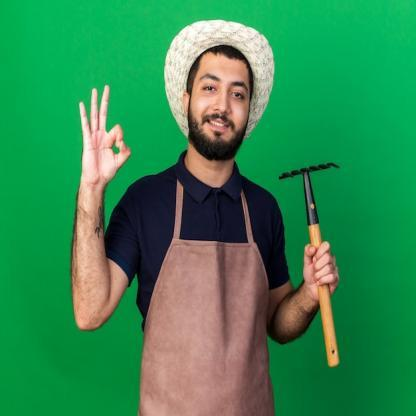ok: (78, 84, 132, 187)
